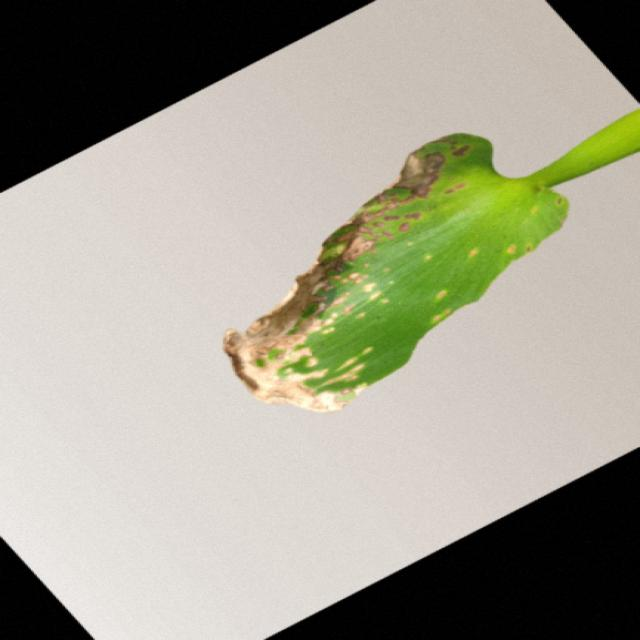daun berpenyakit bercak: (223, 111, 638, 412)
